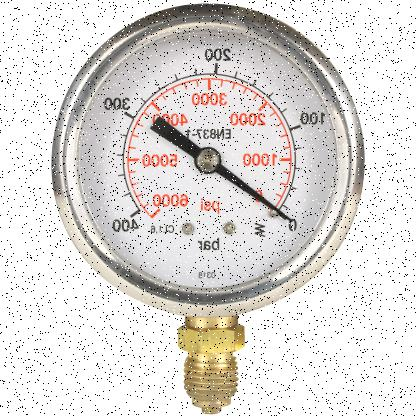needle: (214, 163, 294, 224)
